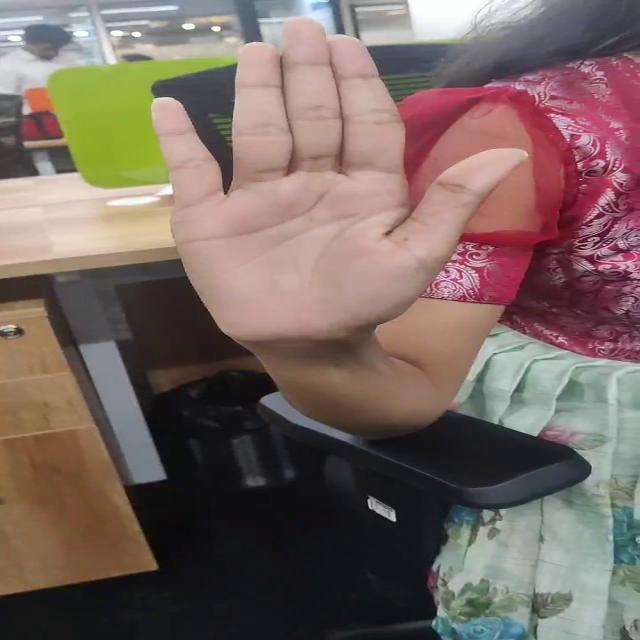no-gloves: (130, 18, 556, 370)
